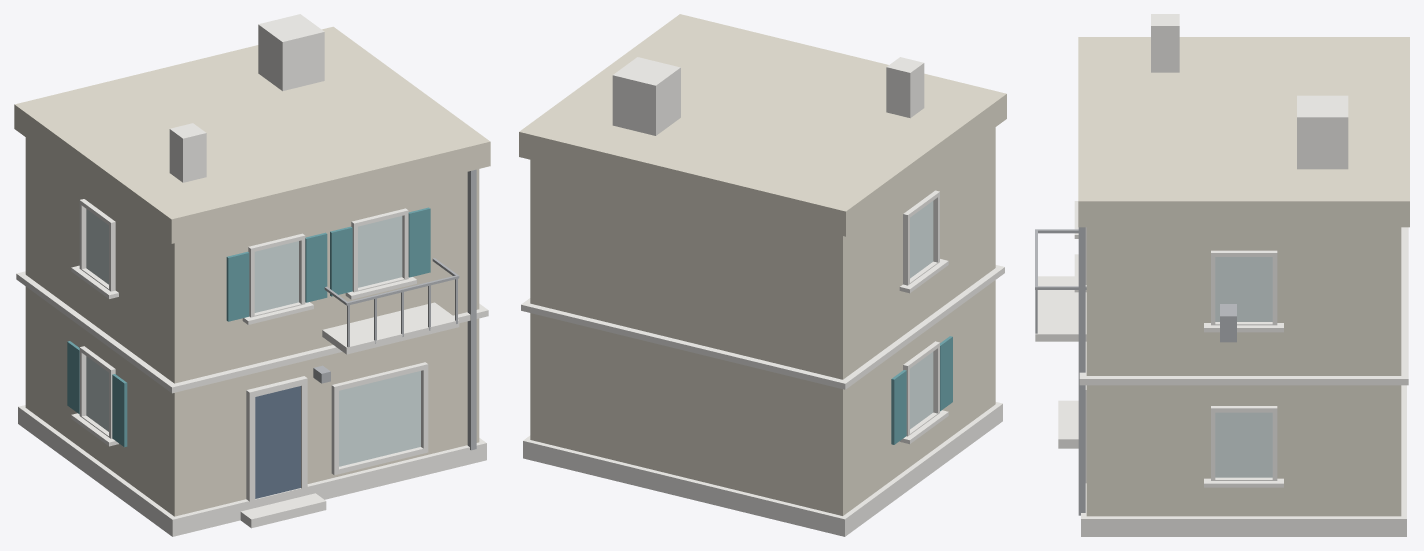
File: harbor_3.glb
3 renders of one model, left to right at view 1: azimuth 30°, elevation 25°; view 2: azimuth 150°, elevation 25°; view 3: azimuth 270°, elevation 25°, orthographic. The views are drawn at different scales.
Visible parts, largest first — view 1: Bld_harbor_3; view 2: Bld_harbor_3; view 3: Bld_harbor_3.
Boxes of the visible parts, x1,y1,x2,y2 form: Bld_harbor_3: [14, 14, 490, 536]; Bld_harbor_3: [519, 14, 1006, 536]; Bld_harbor_3: [1035, 14, 1409, 536].
Size of the model in its own units: 7.23 by 7.5 by 6.56.
